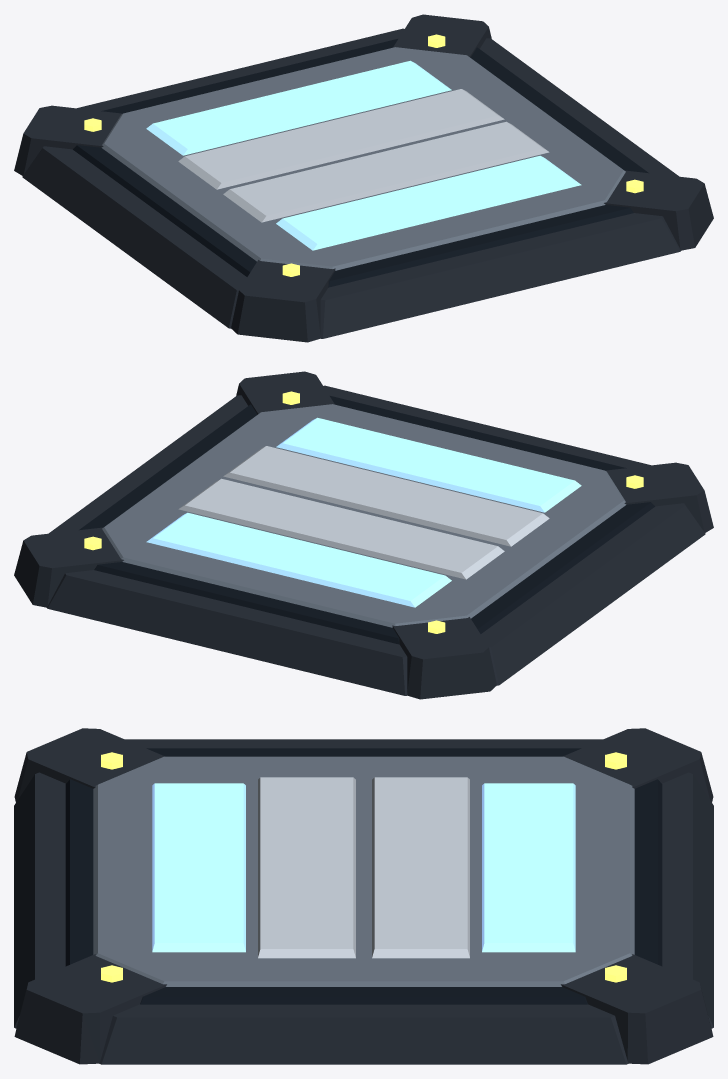
File: silo_retracted.glb
The picture shows the model from 3 angles, top to bottom: view 1: azimuth 30°, elevation 25°; view 2: azimuth 150°, elevation 25°; view 3: azimuth 270°, elevation 25°; orthographic projection. The views are drawn at different scales.
Parts seen in each view (by area): view 1: Surf_dark, Surf_slate, Surf_light, Surf_TEAM, Surf_bay, Surf_amber; view 2: Surf_dark, Surf_slate, Surf_light, Surf_TEAM, Surf_bay, Surf_amber; view 3: Surf_dark, Surf_slate, Surf_light, Surf_TEAM, Surf_bay, Surf_amber.
Boxes of the visible parts, x1,y1,x2,y2 form: Surf_dark: (14, 14, 713, 342); Surf_slate: (101, 47, 625, 270); Surf_light: (178, 89, 549, 222); Surf_TEAM: (146, 60, 581, 250); Surf_bay: (73, 39, 648, 287); Surf_amber: (84, 34, 643, 276); Surf_dark: (14, 371, 713, 699); Surf_slate: (102, 404, 626, 627); Surf_light: (178, 446, 549, 579); Surf_TEAM: (146, 417, 581, 607); Surf_bay: (79, 396, 654, 644); Surf_amber: (84, 391, 643, 633); Surf_dark: (14, 728, 713, 1064); Surf_slate: (93, 756, 634, 986); Surf_light: (258, 777, 469, 958); Surf_TEAM: (152, 783, 575, 952); Surf_bay: (65, 748, 662, 1004); Surf_amber: (101, 752, 626, 982).
Bounding box in the file's own units: 3.31 × 0.28 × 3.31.
